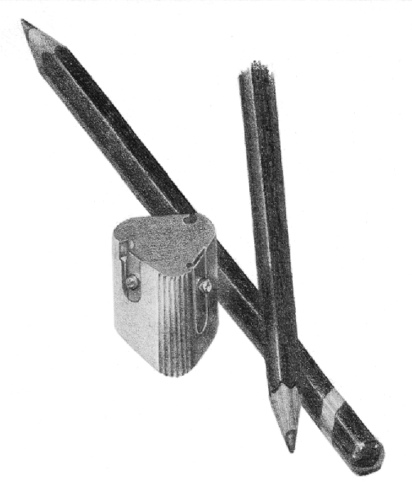pen_tip: (254, 364, 311, 459), (17, 11, 82, 87)
